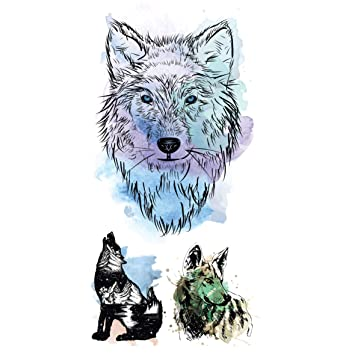Lobo: (89, 16, 255, 220), (76, 225, 166, 341), (170, 238, 264, 343)
